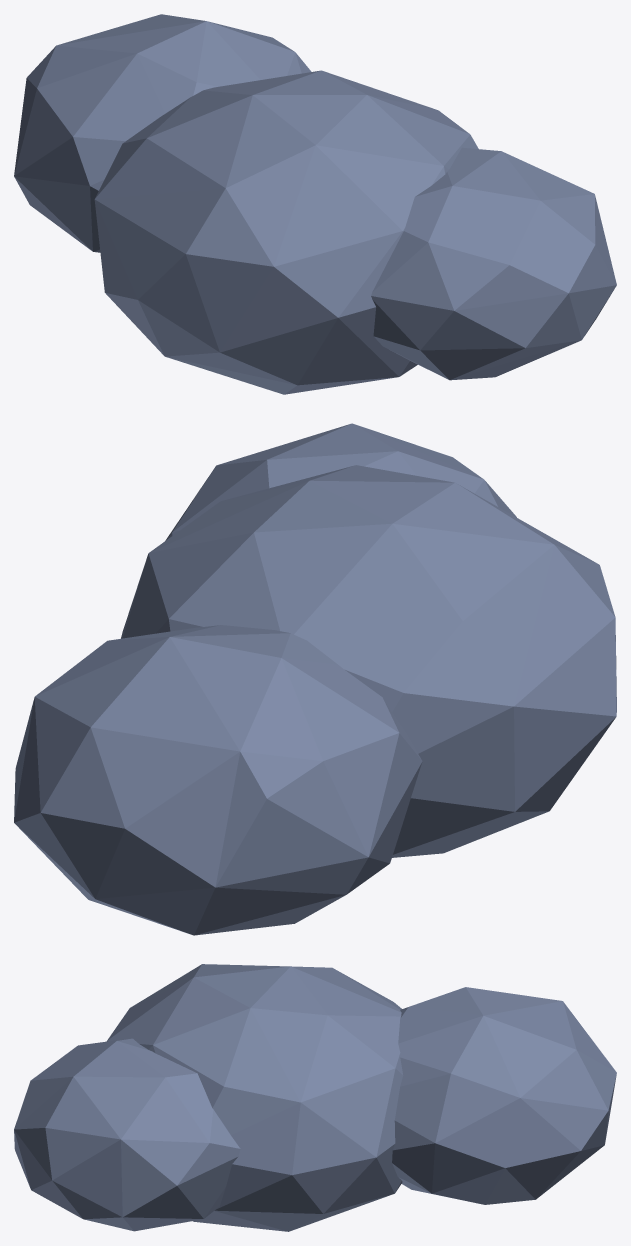
Rendered from cloud.obj.
3 views of the same model, one above another, from view 1: azimuth 30°, elevation 25°; view 2: azimuth 150°, elevation 25°; view 3: azimuth 270°, elevation 25° (orthographic). The views are drawn at different scales.
Parts seen in each view (by area): view 1: Cloud_Icosphere.002; view 2: Cloud_Icosphere.002; view 3: Cloud_Icosphere.002.
Boxes of the visible parts, x1=… form: Cloud_Icosphere.002: x1=14, y1=14, x2=616, y2=394; Cloud_Icosphere.002: x1=14, y1=423, x2=616, y2=935; Cloud_Icosphere.002: x1=14, y1=964, x2=616, y2=1231.
Size of the model in its own units: 1.45 by 0.933 by 2.21.
